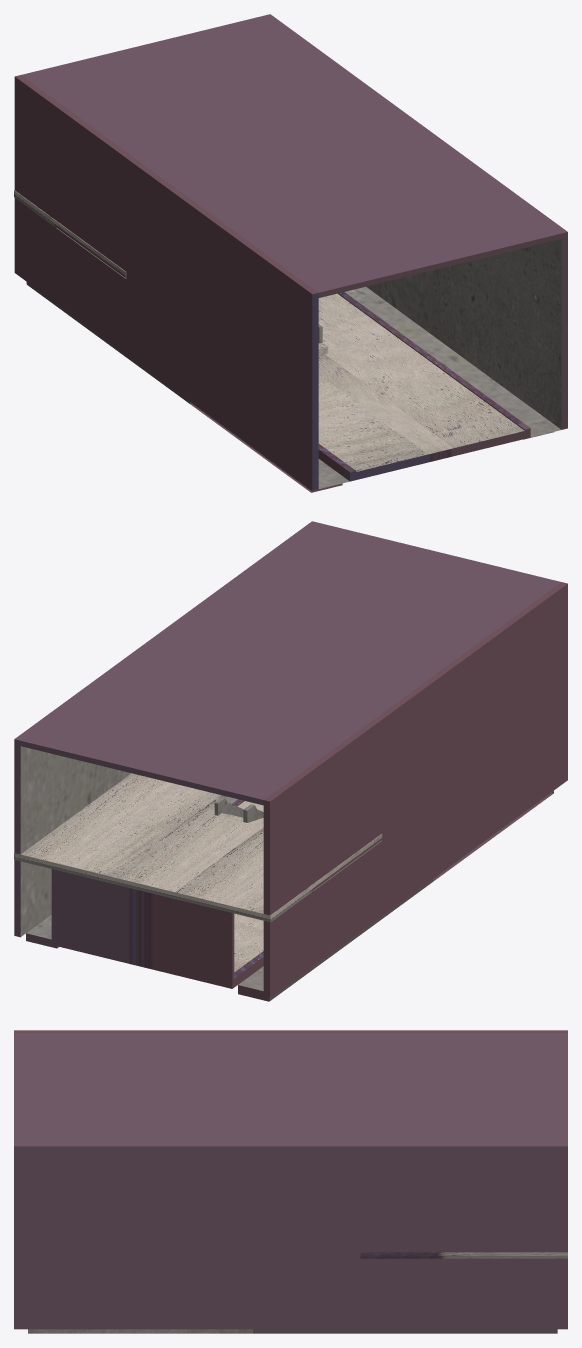
Rendered from subway_station.fbx.
The picture shows the model from 3 angles, top to bottom: view 1: azimuth 30°, elevation 25°; view 2: azimuth 150°, elevation 25°; view 3: azimuth 270°, elevation 25°; orthographic projection. The views are drawn at different scales.
Visible parts, largest first — view 1: Cube; view 2: Cube; view 3: Cube.
Part boxes in pixels (x1,y1,x2,y2): Cube: (14, 14, 567, 492); Cube: (14, 521, 567, 1001); Cube: (14, 1030, 567, 1333).
Size of the model in its own units: 10324 by 7907 by 20745.
